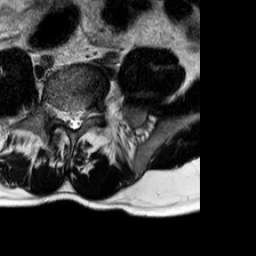CCS_normal: (70, 102, 78, 136)
LFS_normal: (86, 99, 95, 123)
LLS_normal: (78, 102, 86, 130)
RFS_normal: (53, 98, 62, 127)
RLS_normal: (62, 101, 70, 131)
